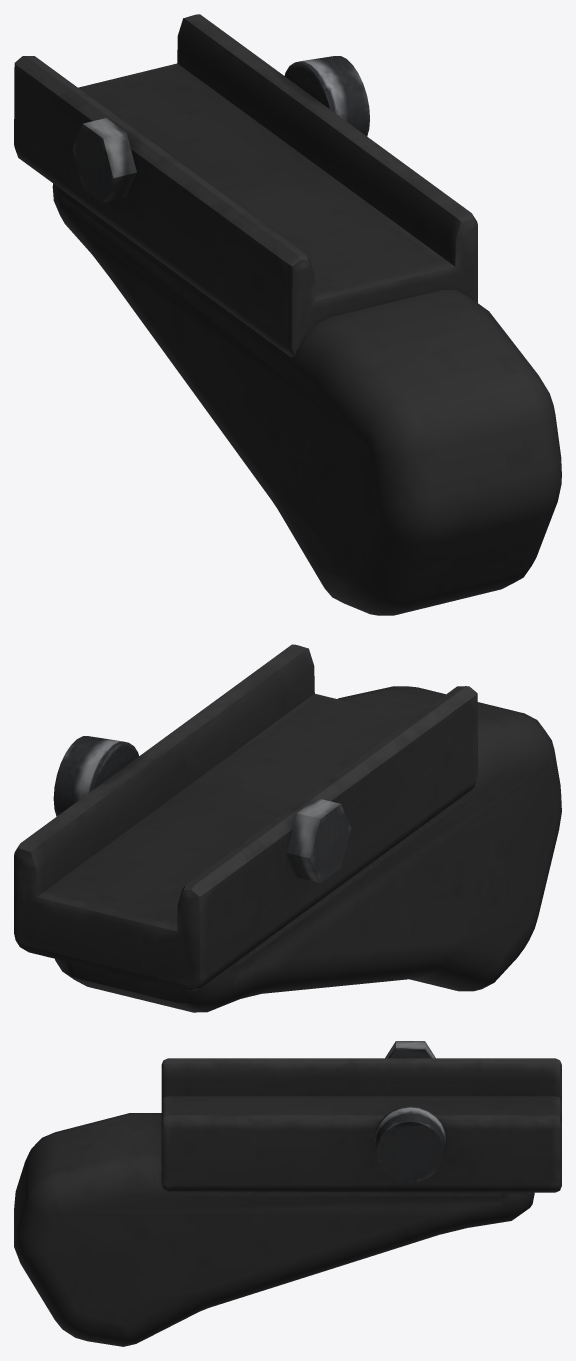
Rendered from grip_angled.glb.
3 renders of one model, top to bottom at view 1: azimuth 30°, elevation 25°; view 2: azimuth 150°, elevation 25°; view 3: azimuth 270°, elevation 25°, orthographic. The views are drawn at different scales.
Visible parts, largest first — view 1: body; view 2: body; view 3: body.
Part boxes in pixels (x1,y1,x2,y2): body: (14,14,561,615); body: (14,644,561,1012); body: (14,1041,561,1346).
Bounding box in the file's own units: 0.0386 × 0.0514 × 0.1013.
1 material, 1 textured.
